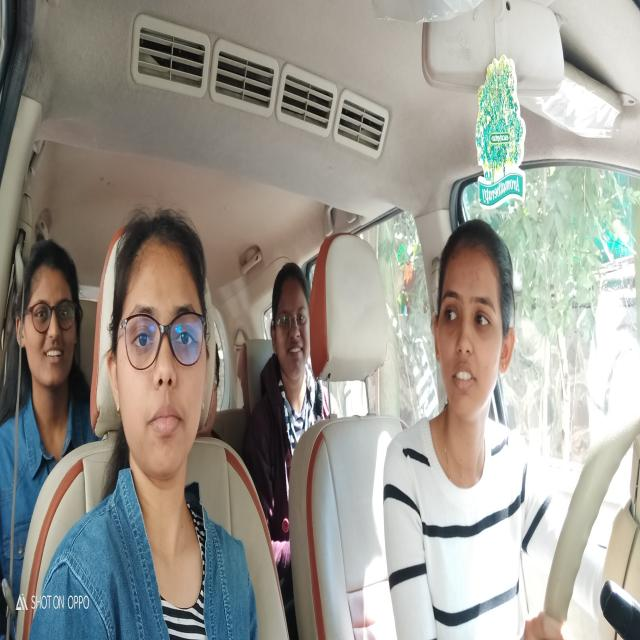LeftRight: (433, 224, 515, 432)
person: (108, 209, 210, 481), (16, 237, 83, 391), (269, 259, 311, 389)
talking: (449, 360, 479, 395)
